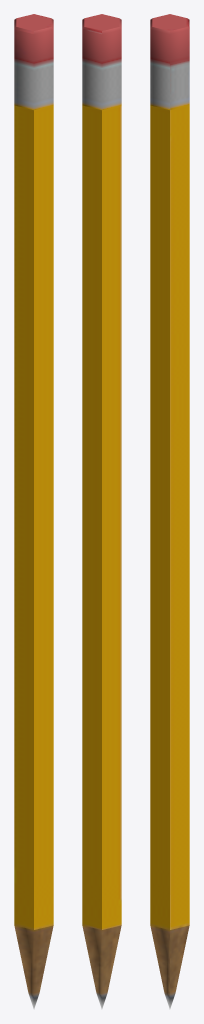
The model's file is MeshCylinder_225_0.obj.
3 renders of one model, left to right at view 1: azimuth 30°, elevation 25°; view 2: azimuth 210°, elevation 25°; view 3: azimuth 330°, elevation 25°, orthographic.
Visible parts, largest first — view 1: Cylinder_225; view 2: Cylinder_225; view 3: Cylinder_225.
Part boxes in pixels (x1,y1,x2,y2): Cylinder_225: (14, 14, 53, 1009); Cylinder_225: (82, 14, 121, 1009); Cylinder_225: (150, 14, 189, 1009).
Size of the model in its own units: 0.008 by 0.1921 by 0.00693.
